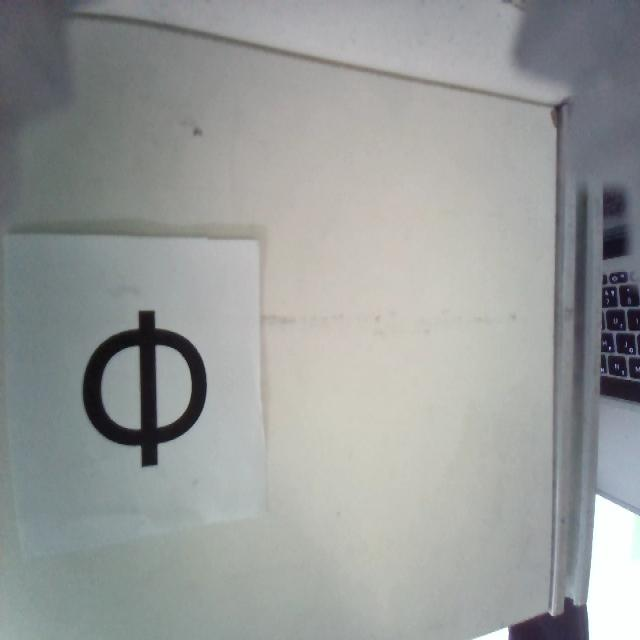F: (82, 311, 209, 462)
